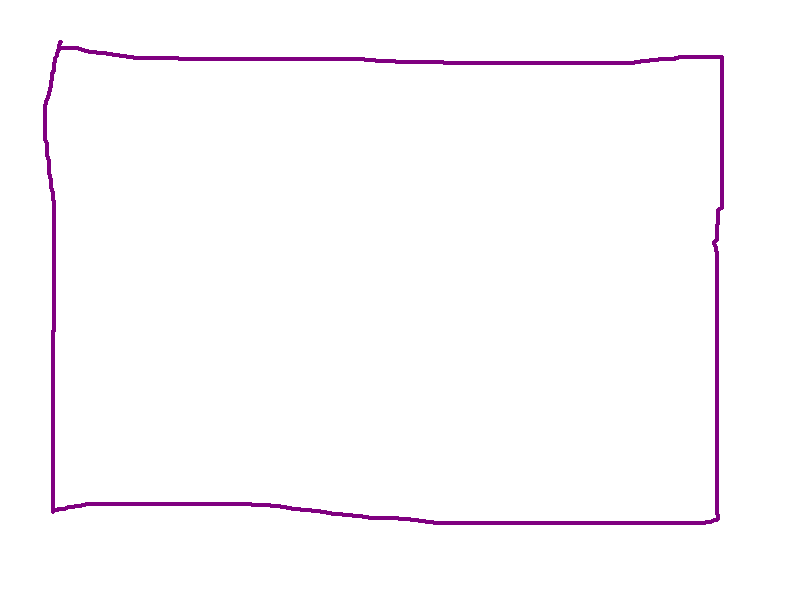rect: (37, 34, 731, 536)
